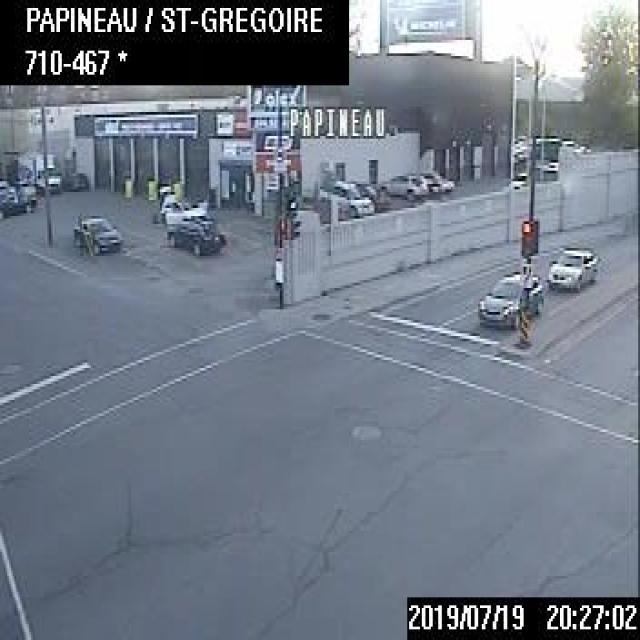vehicle: (474, 267, 542, 325), (543, 238, 598, 292), (316, 174, 374, 221), (71, 210, 123, 257), (165, 213, 225, 253), (12, 150, 60, 193), (154, 190, 207, 224), (382, 170, 428, 201), (0, 184, 38, 219), (350, 177, 387, 208), (417, 164, 450, 192)
